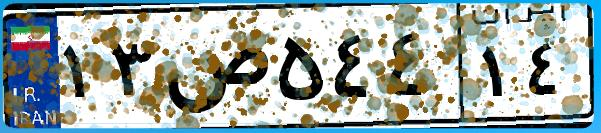1: (57, 26, 110, 100), (475, 38, 525, 113)
3: (110, 28, 158, 98)
4: (385, 28, 445, 110), (330, 28, 385, 110), (525, 38, 570, 115)
5: (270, 28, 330, 110)
ص: (158, 20, 270, 120)
